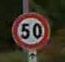limite 50: (9, 10, 50, 50)
